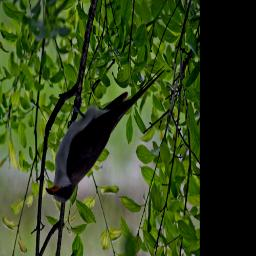Cuckoo: (44, 65, 163, 203)
